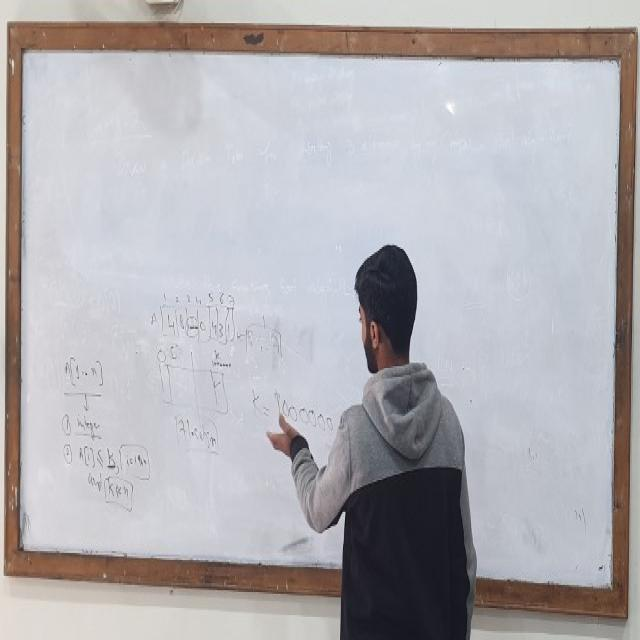Instructor: (316, 226, 479, 628)
White-board: (13, 39, 630, 607)
